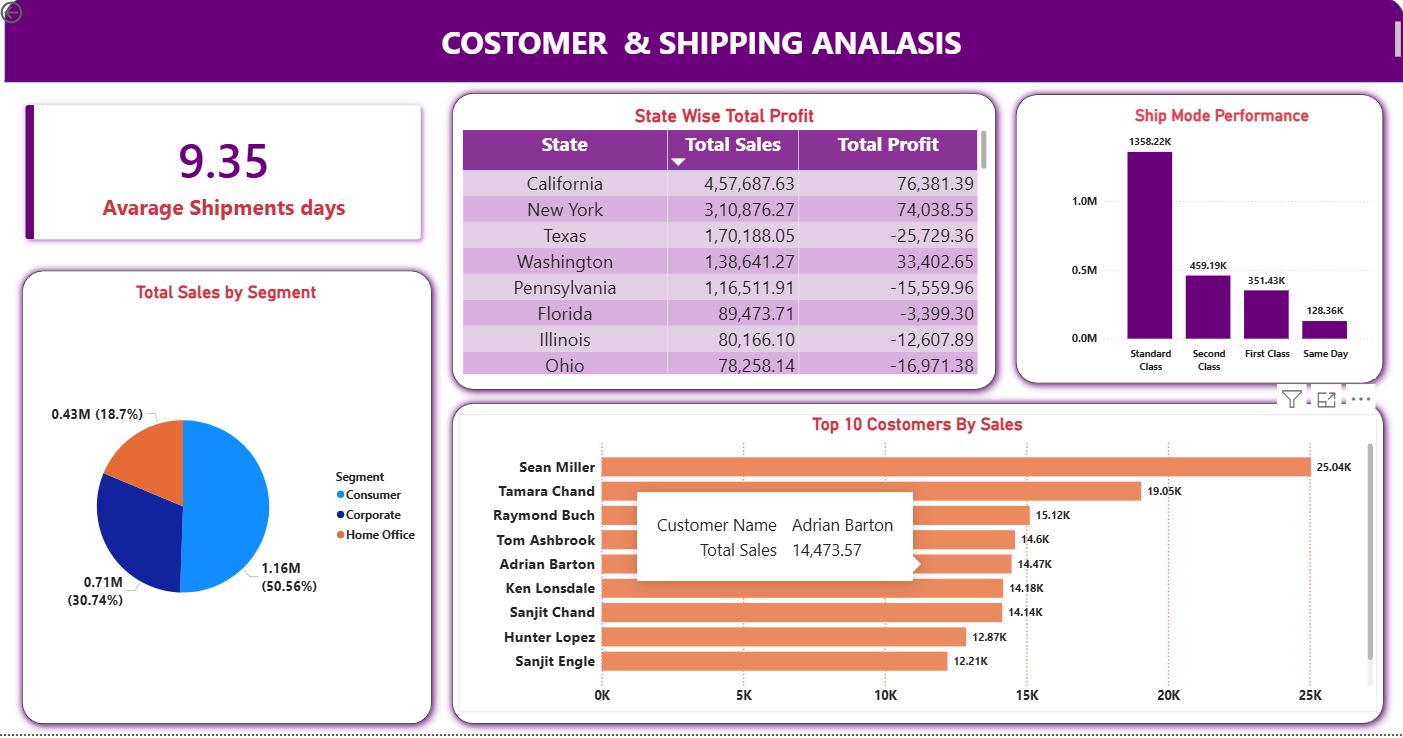

What the dashboard file says about the page in this screenshot:
{"tool":"powerbi","page":{"name":"Costomer $ Shipping Analasis","canvas":[1950,1020],"ordinal":2},"visuals":[{"type":"shape","box":[10.5,0,1940,117.1],"z":0},{"type":"textbox","box":[10.5,27.2,1940,62.7],"z":1000},{"type":"shape","box":[20.9,363.7,595.8,656.4],"z":2000},{"type":"shape","box":[616.7,117.1,781.8,439],"z":3000},{"type":"shape","box":[1398.5,119.2,537.3,428.5],"z":4000},{"type":"shape","box":[616.7,547.7,1319.1,472.5],"z":5000},{"type":"columnChart","title":"Ship Mode Performance","fields":{"Category":["Superstore.Ship Mode"],"Y":["Superstore.Total Sales"]},"box":[1484.2,148.4,426.5,378.4],"z":6000},{"type":"pieChart","fields":{"Category":["Superstore.Segment"],"Y":["Superstore.Total Sales"]},"box":[41.8,393,551.9,595.8],"z":7000},{"type":"barChart","title":"Top 10 Costomers By Sales","fields":{"Category":["Superstore.Customer Name"],"Y":["Superstore.Total Sales"]},"box":[639.7,577,1273.1,411.8],"z":8000},{"type":"tableEx","title":"State Wise Total Profit","fields":{"Values":["Superstore.State","Superstore.Total Sales","Superstore.Total Profit"]},"box":[639.7,144.2,737.9,382.6],"z":9000},{"type":"cardVisual","fields":{"Data":["Superstore.Avarage Shipments days"]},"box":[10.5,119.2,606.2,244.6],"z":10000},{"type":"actionButton","box":[0,0,100,40],"z":11000}]}

Visuals, with their boxes in screenshot pixels (x1, y1, x2, y2), scaled from the page's 1950x1020 canvas onto the 1403x738 screenshot:
shape: select_region(8, 0, 1402, 85)
textbox: select_region(8, 20, 1402, 65)
shape: select_region(15, 263, 444, 737)
shape: select_region(444, 85, 1006, 402)
shape: select_region(1006, 86, 1393, 396)
shape: select_region(444, 396, 1393, 737)
"Ship Mode Performance" columnChart: select_region(1068, 107, 1375, 381)
pieChart - Superstore.Segment x Superstore.Total Sales: select_region(30, 284, 427, 715)
"Top 10 Costomers By Sales" barChart: select_region(460, 417, 1376, 715)
"State Wise Total Profit" tableEx: select_region(460, 104, 991, 381)
cardVisual - Superstore.Avarage Shipments days: select_region(8, 86, 444, 263)
actionButton: select_region(0, 0, 72, 29)
